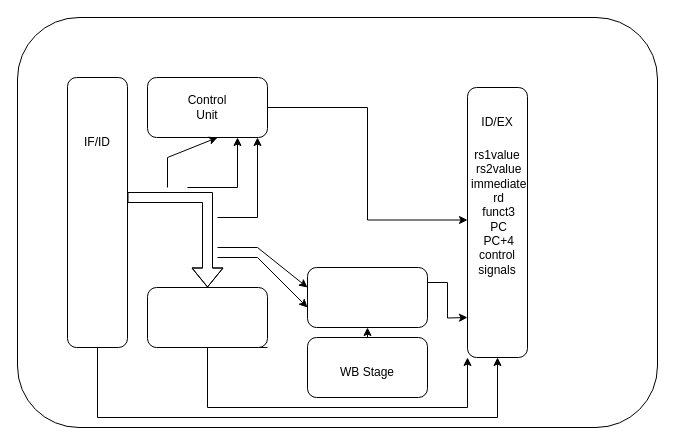
The diagram is 675 pixels wide and 445 high, and some of its shapes have lost their labels. The centre of each missing label's shape, as x and y in pixels:
Architectural Registers: (367,297)
Immediate Generator: (207,317)
